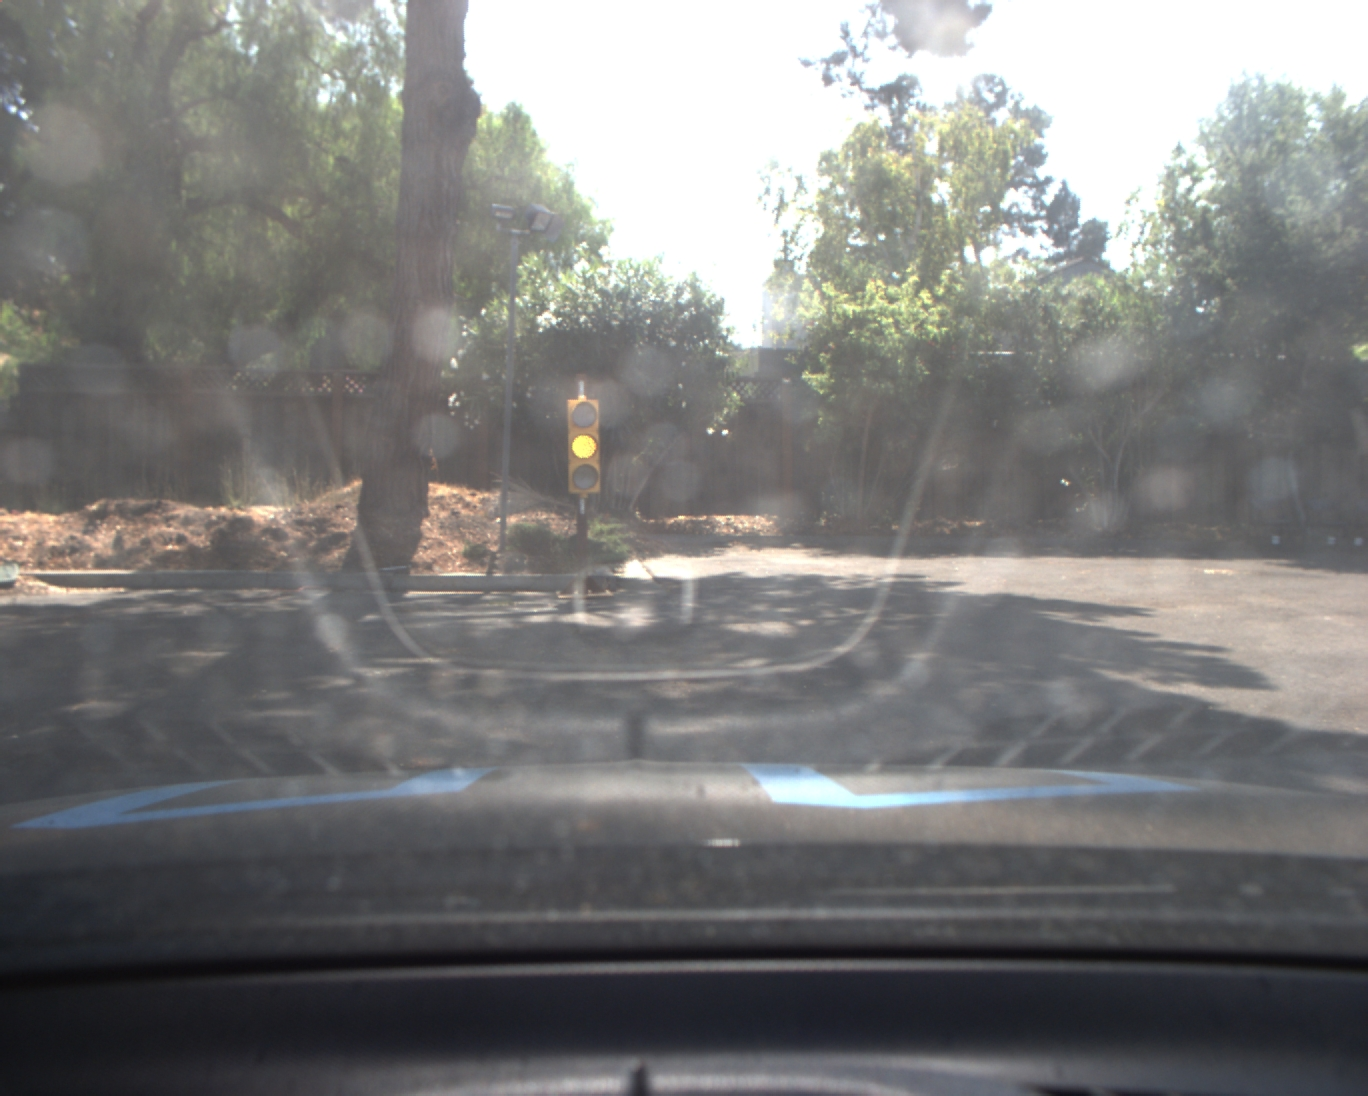yellow: (567, 397, 600, 499)
